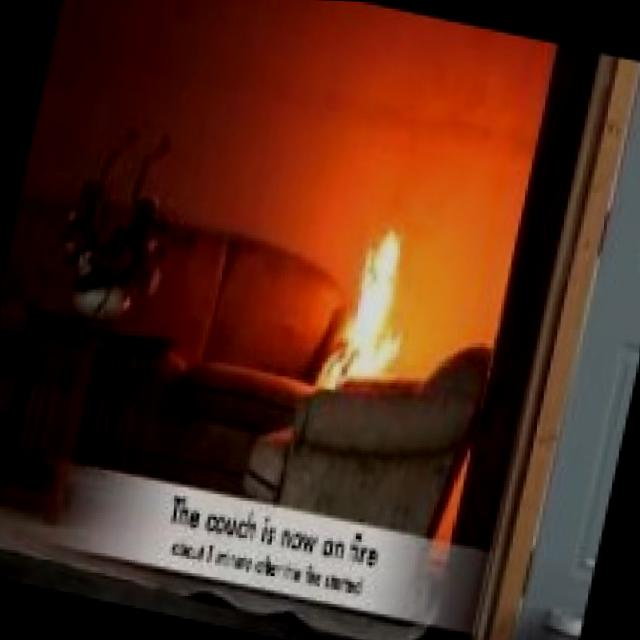fire: (321, 210, 444, 377)
